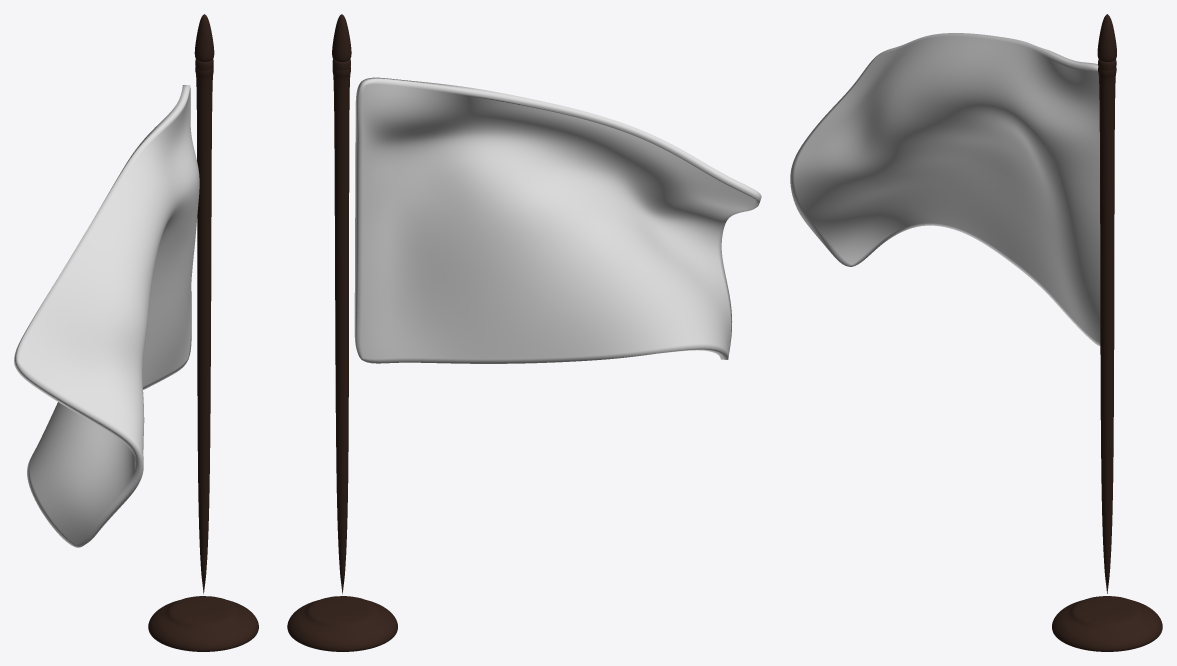
The model's file is flags.fbx.
3 views of the same model, side by side, from view 1: azimuth 30°, elevation 25°; view 2: azimuth 150°, elevation 25°; view 3: azimuth 270°, elevation 25° (orthographic).
Parts seen in each view (by area): view 1: flag5, flag5carcas; view 2: flag5, flag5carcas; view 3: flag5, flag5carcas.
Part boxes in pixels (left/top/right/bottom): flag5: left=14, top=85, right=199, bottom=547; flag5carcas: left=148, top=14, right=258, bottom=651; flag5: left=354, top=77, right=761, bottom=363; flag5carcas: left=287, top=14, right=397, bottom=651; flag5: left=790, top=33, right=1100, bottom=345; flag5carcas: left=1052, top=14, right=1162, bottom=651.
Bounding box in the file's own units: 162 × 272 × 149.
